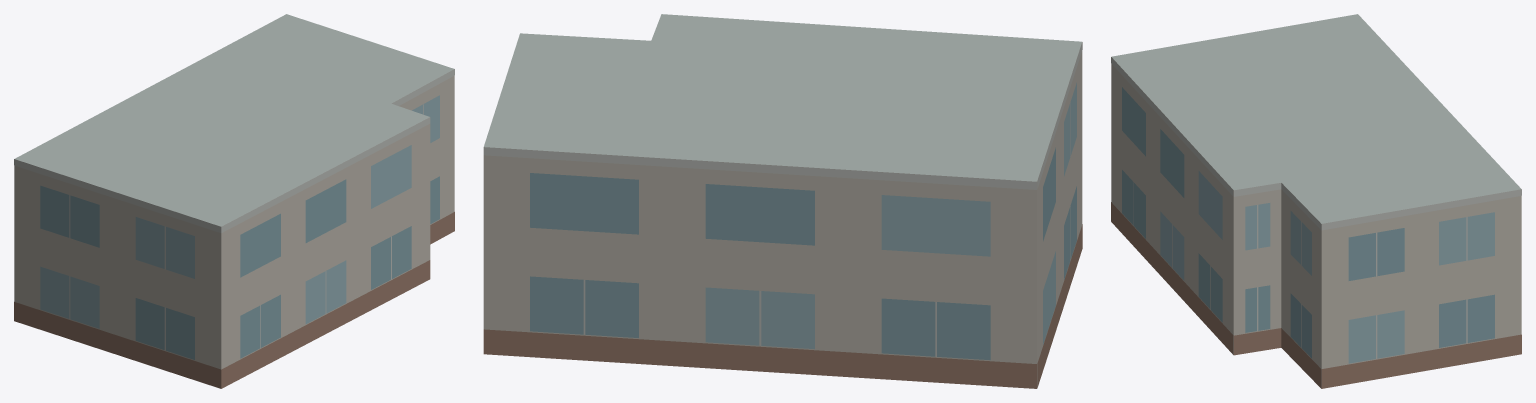
Rendered from survey-upis-32851305.glb.
3 views of the same model, side by side, from view 1: azimuth 30°, elevation 25°; view 2: azimuth 150°, elevation 25°; view 3: azimuth 270°, elevation 25° (orthographic). The views are drawn at different scales.
Parts seen in each view (by area): view 1: survey-upis-32851305.tmp; view 2: survey-upis-32851305.tmp; view 3: survey-upis-32851305.tmp.
Part boxes in pixels (x1=…): survey-upis-32851305.tmp: x1=14, y1=14, x2=454, y2=388; survey-upis-32851305.tmp: x1=483, y1=14, x2=1082, y2=388; survey-upis-32851305.tmp: x1=1111, y1=14, x2=1521, y2=388.
Bounding box in the file's own units: 16.65 × 6.1 × 13.77.
